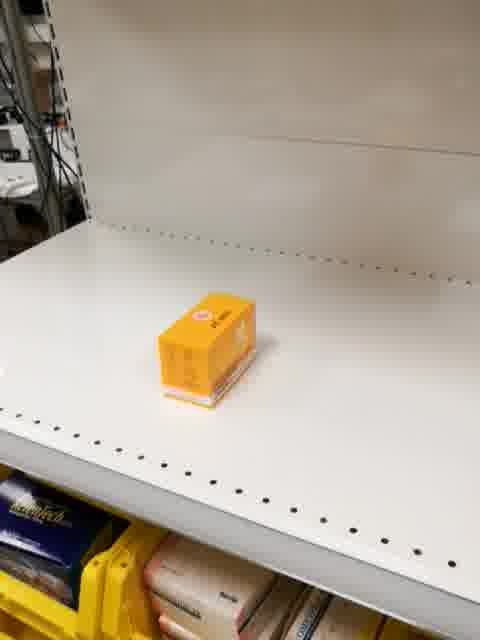jasminetea: (158, 290, 256, 410)
